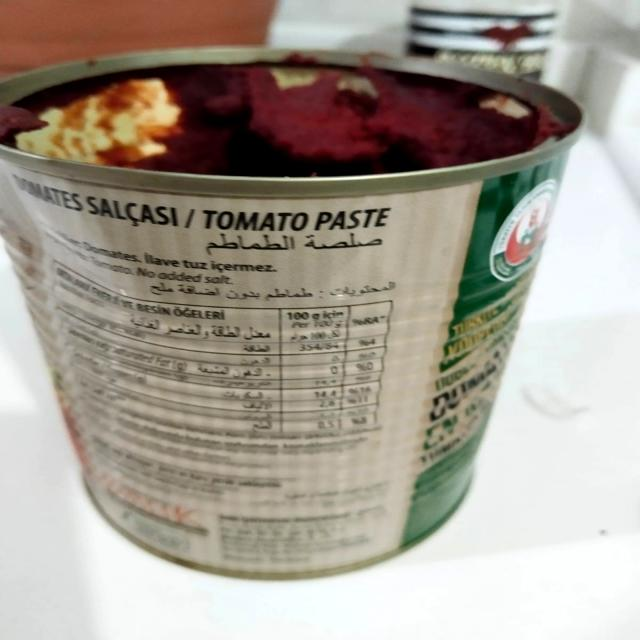tomato paste: (0, 46, 568, 589)
